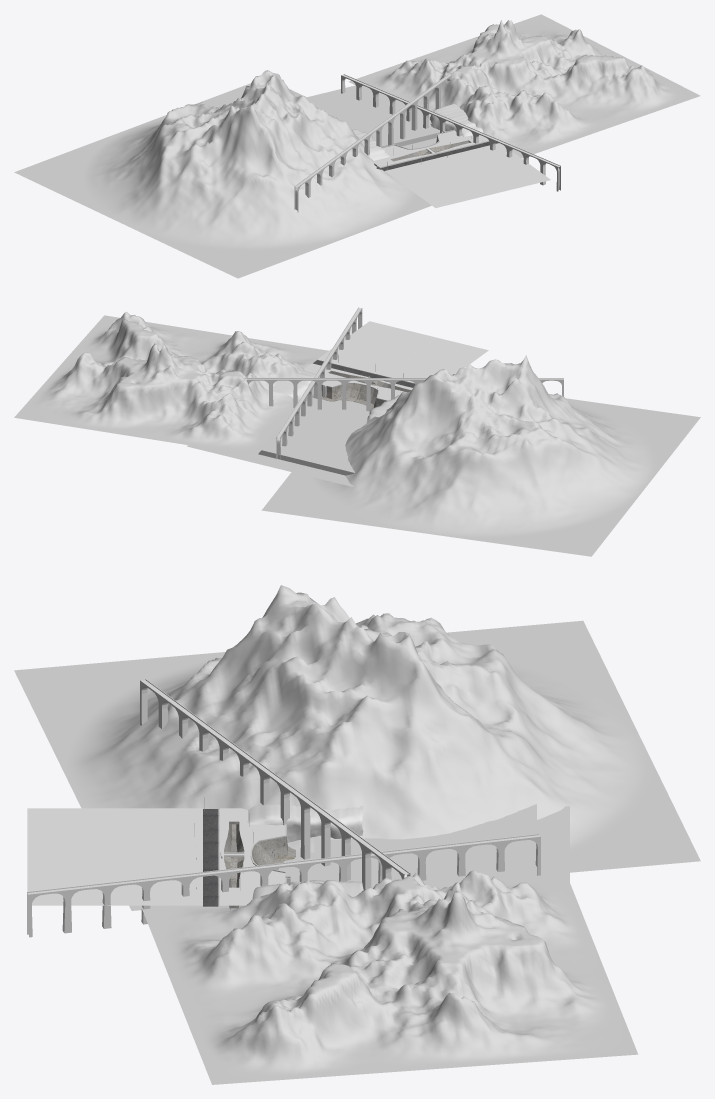
3 renders of one model, top to bottom at view 1: azimuth 30°, elevation 25°; view 2: azimuth 150°, elevation 25°; view 3: azimuth 270°, elevation 25°, orthographic. The views are drawn at different scales.
Parts seen in each view (by area): view 1: Landscape, Landscape.003, Plane, Cube.001, Plane.006, Plane.005, Plane.001, Plane.004; view 2: Landscape, Landscape.003, Plane, Cube.001, Plane.005, Plane.006, Plane.004, Plane.001; view 3: Landscape, Landscape.003, Plane, Cube.001, Plane.005, Plane.006, Plane.004, Plane.002.
Boxes of the visible parts, x1,y1,x2,y2 form: Landscape: [14, 70, 431, 278]; Landscape.003: [348, 14, 700, 158]; Plane: [373, 130, 550, 208]; Cube.001: [309, 89, 439, 147]; Plane.006: [294, 74, 451, 212]; Plane.005: [341, 74, 560, 191]; Plane.001: [430, 103, 483, 136]; Plane.004: [306, 85, 436, 148]; Landscape: [261, 355, 700, 556]; Landscape.003: [14, 311, 328, 455]; Plane: [304, 321, 488, 409]; Cube.001: [258, 397, 369, 475]; Plane.005: [276, 307, 362, 459]; Plane.006: [246, 377, 563, 411]; Plane.004: [187, 399, 366, 486]; Plane.001: [267, 370, 319, 402]; Landscape: [14, 585, 700, 910]; Landscape.003: [141, 870, 638, 1084]; Plane: [27, 808, 295, 909]; Cube.001: [314, 804, 536, 888]; Plane.005: [27, 834, 540, 937]; Plane.006: [140, 679, 410, 890]; Plane.004: [278, 806, 569, 882]; Plane.002: [247, 804, 364, 842].
Bounding box in the file's own units: 114388 × 17865 × 68057.
3 materials, 1 textured.
